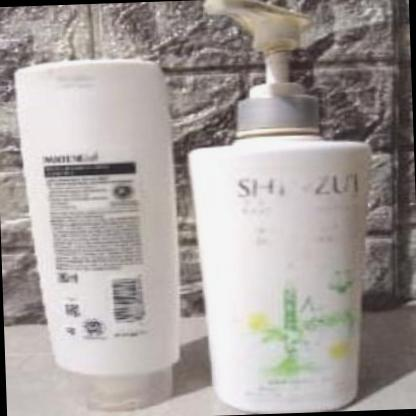objects: (12, 52, 182, 408)
